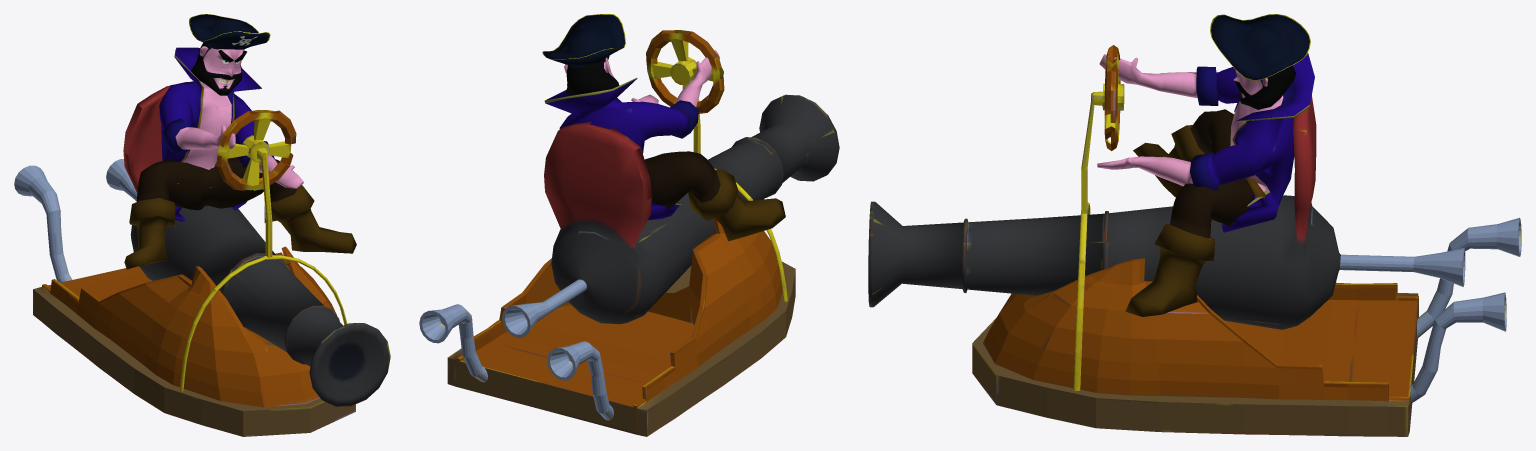
Rendered from pirataGiroDER_000367.obj.
3 renders of one model, left to right at view 1: azimuth 30°, elevation 25°; view 2: azimuth 150°, elevation 25°; view 3: azimuth 270°, elevation 25°, orthographic. The views are drawn at different scales.
Parts seen in each view (by area): view 1: carro_pirata, Pirata_PirataH; view 2: carro_pirata, Pirata_PirataH; view 3: carro_pirata, Pirata_PirataH.
Boxes of the visible parts, left/top/right/bottom form: carro_pirata: left=14, top=82, right=390, bottom=436; Pirata_PirataH: left=124, top=14, right=356, bottom=269; carro_pirata: left=419, top=30, right=839, bottom=436; Pirata_PirataH: left=542, top=14, right=785, bottom=241; carro_pirata: left=868, top=45, right=1521, bottom=436; Pirata_PirataH: left=1097, top=14, right=1314, bottom=316.
Size of the model in its own units: 5.68 by 7.63 by 12.1.
Materials: 2 (2 with a texture image).
